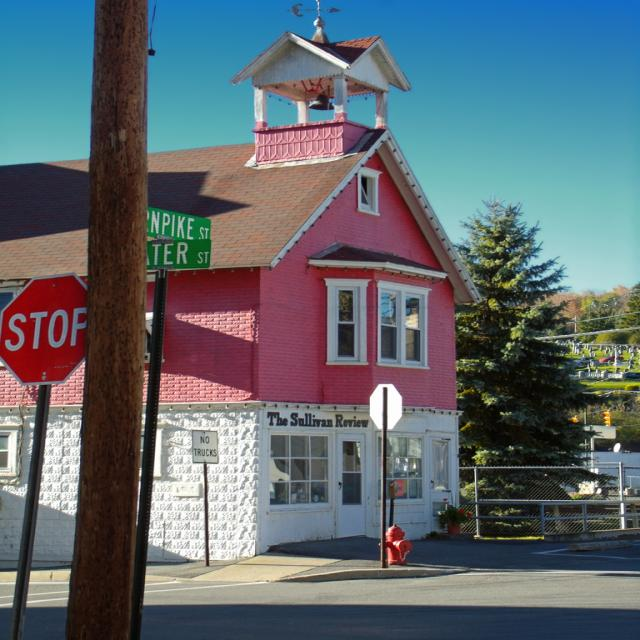Stop-sign: (2, 272, 90, 385)
